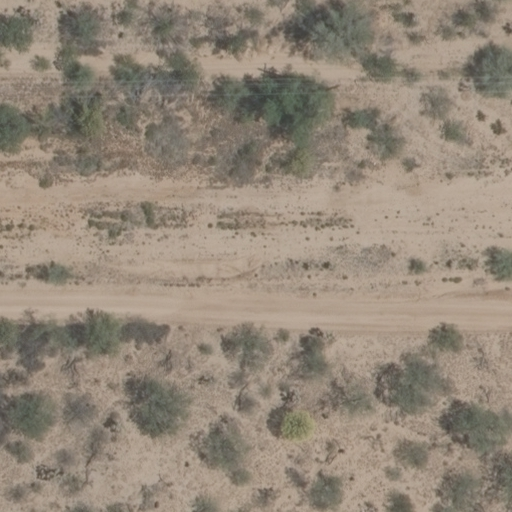DT: (325, 80, 346, 91)
